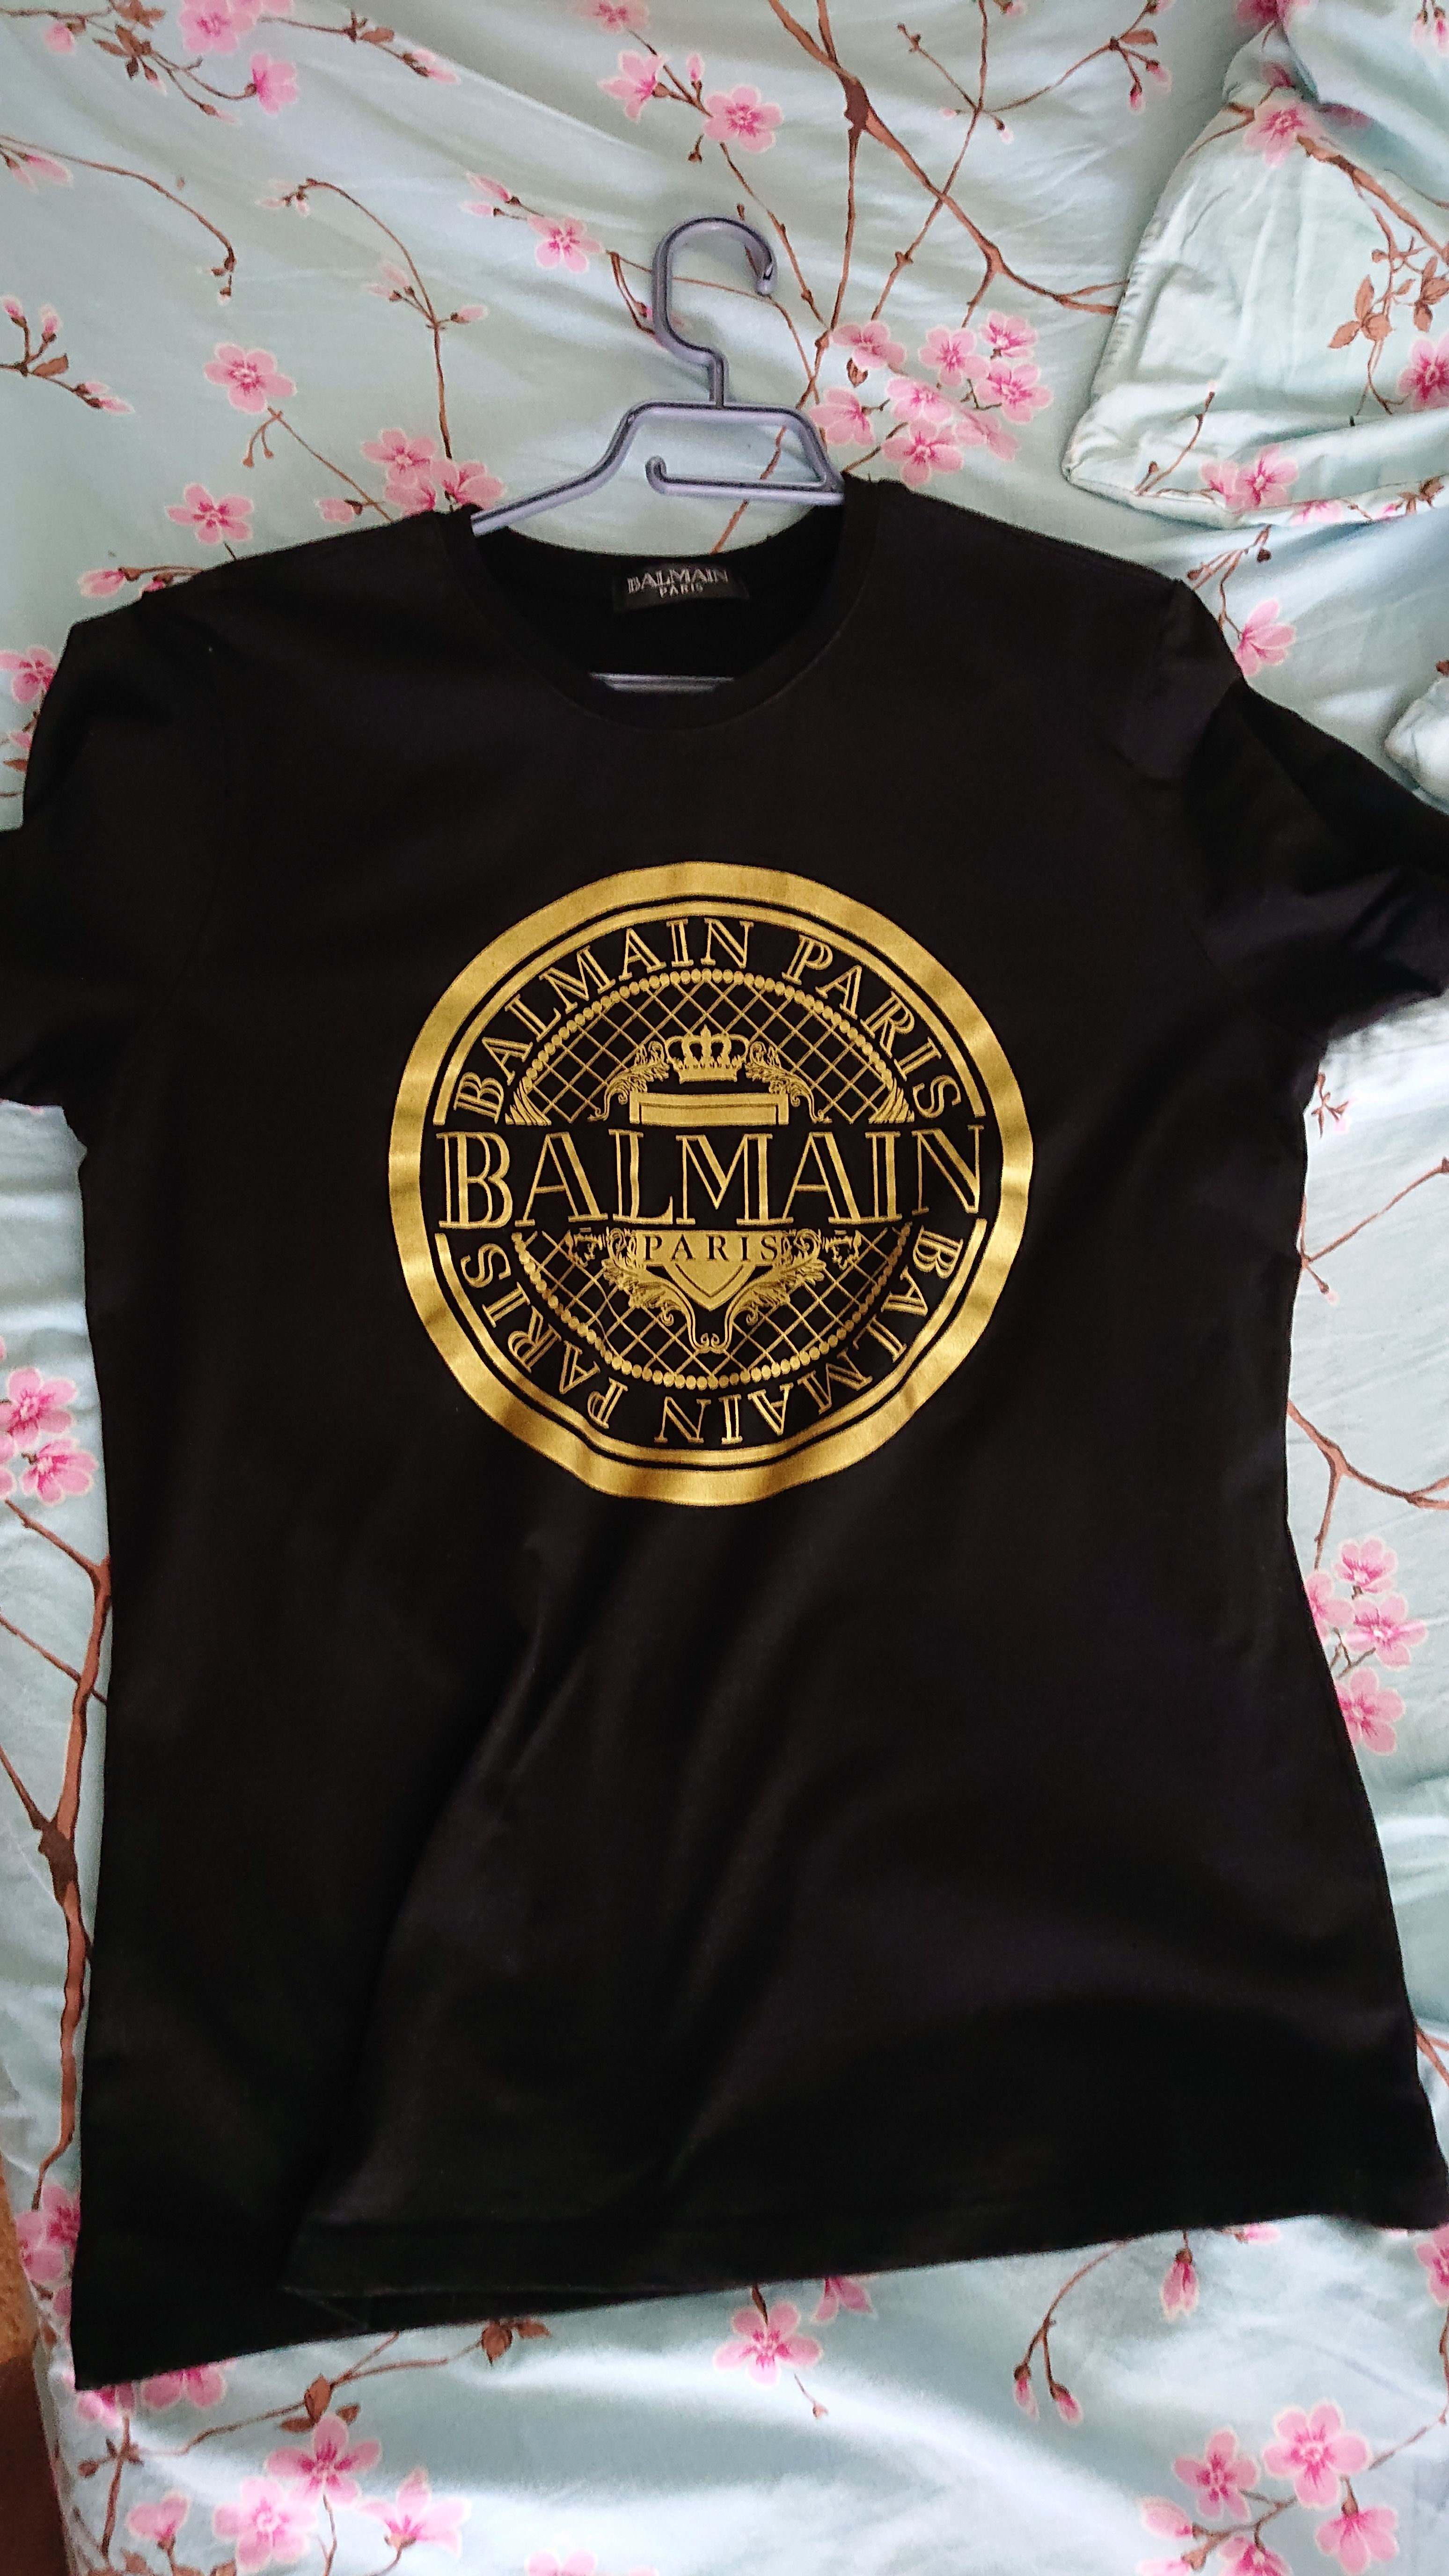clothes: (12, 487, 1449, 2381)
